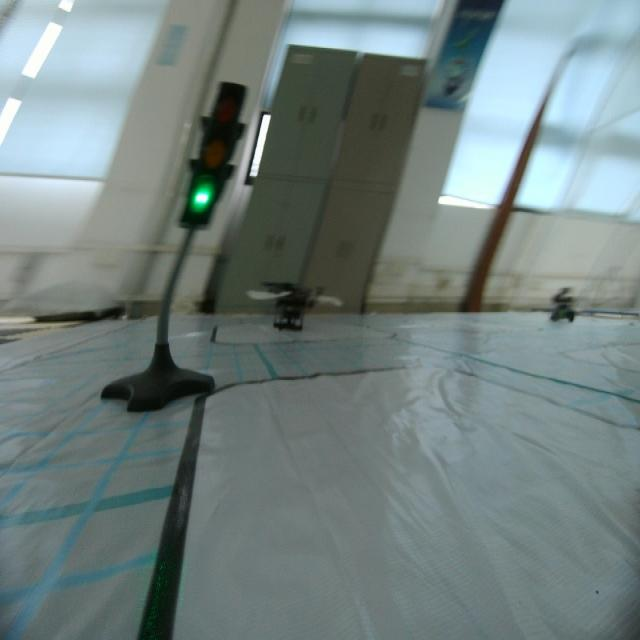green: (178, 72, 249, 243)
